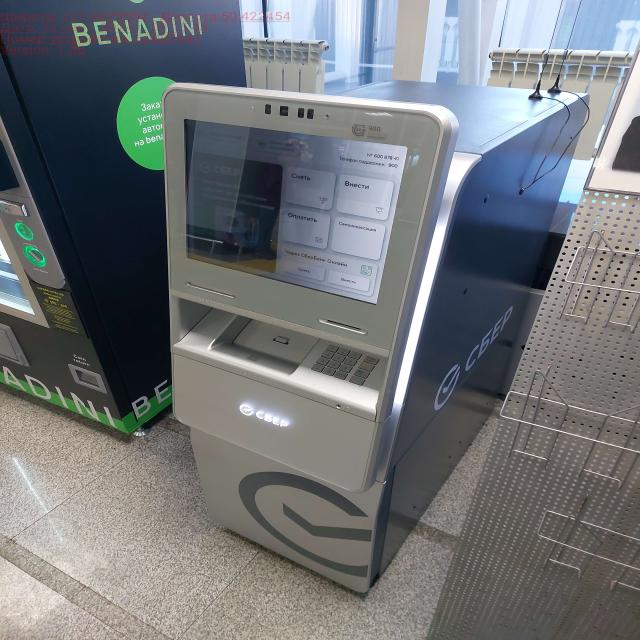bank: (161, 79, 586, 591)
